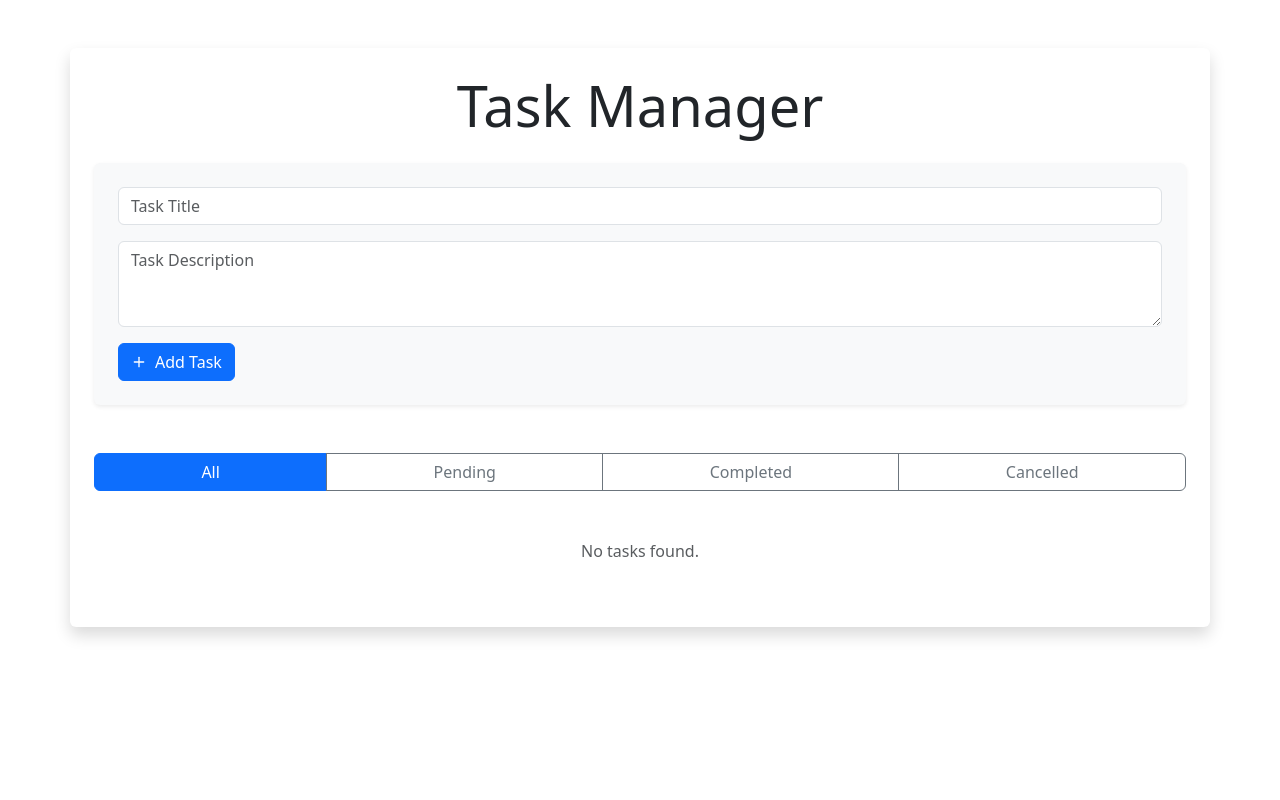
Test: TaskManager Component › renders TaskManager and adds a task
Type "New Task" into the field with test id "task-title-input" at (640, 206), box [118, 187, 1162, 225]
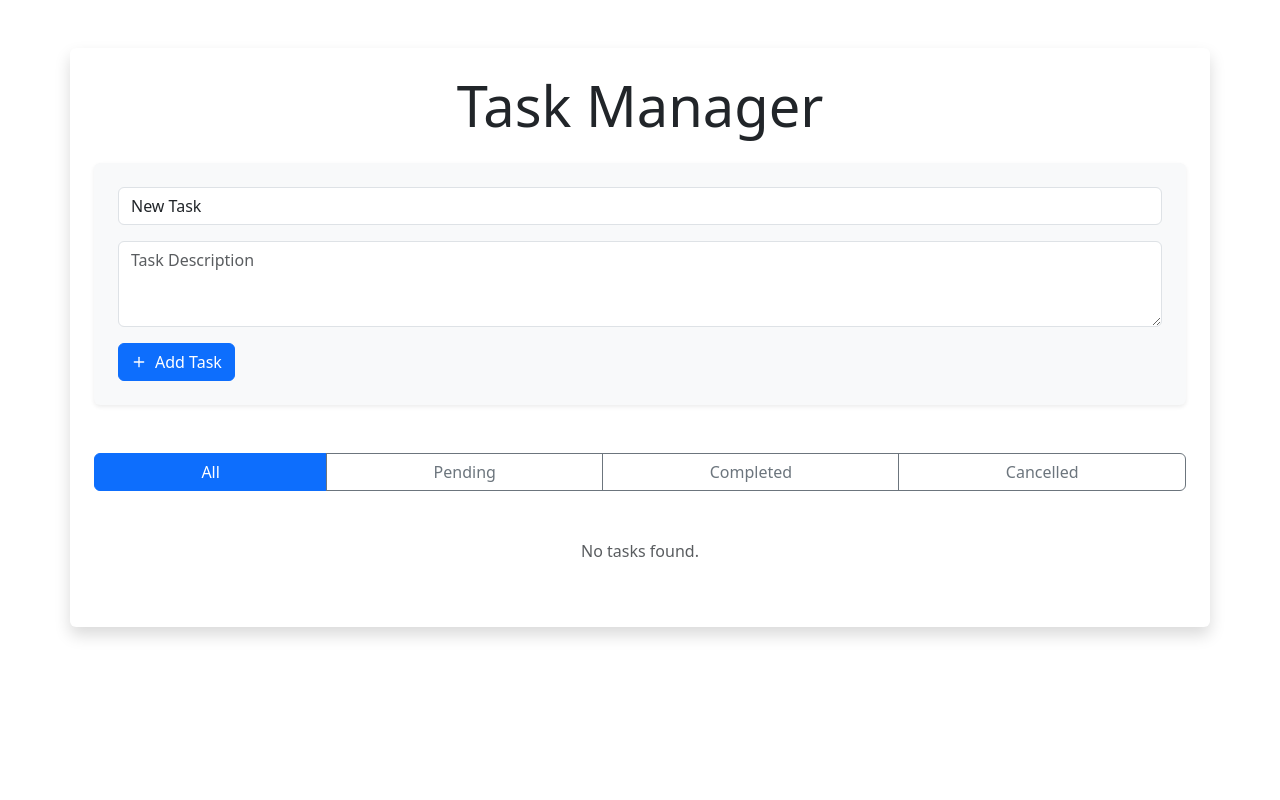
Type "Task description" into the text box with test id "task-description-input" at (640, 284), box [118, 241, 1162, 327]
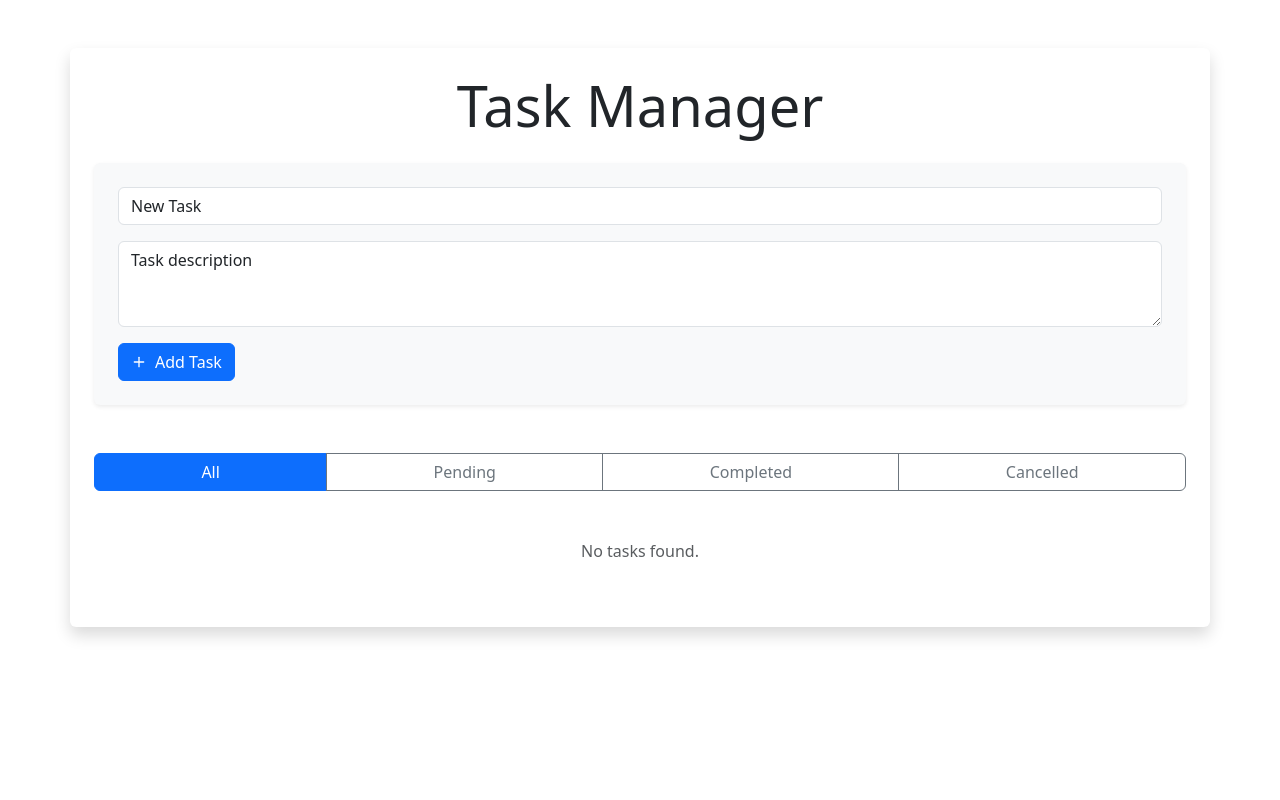
Click the button with test id "task-submit-button" at (176, 362), box [118, 343, 235, 381]
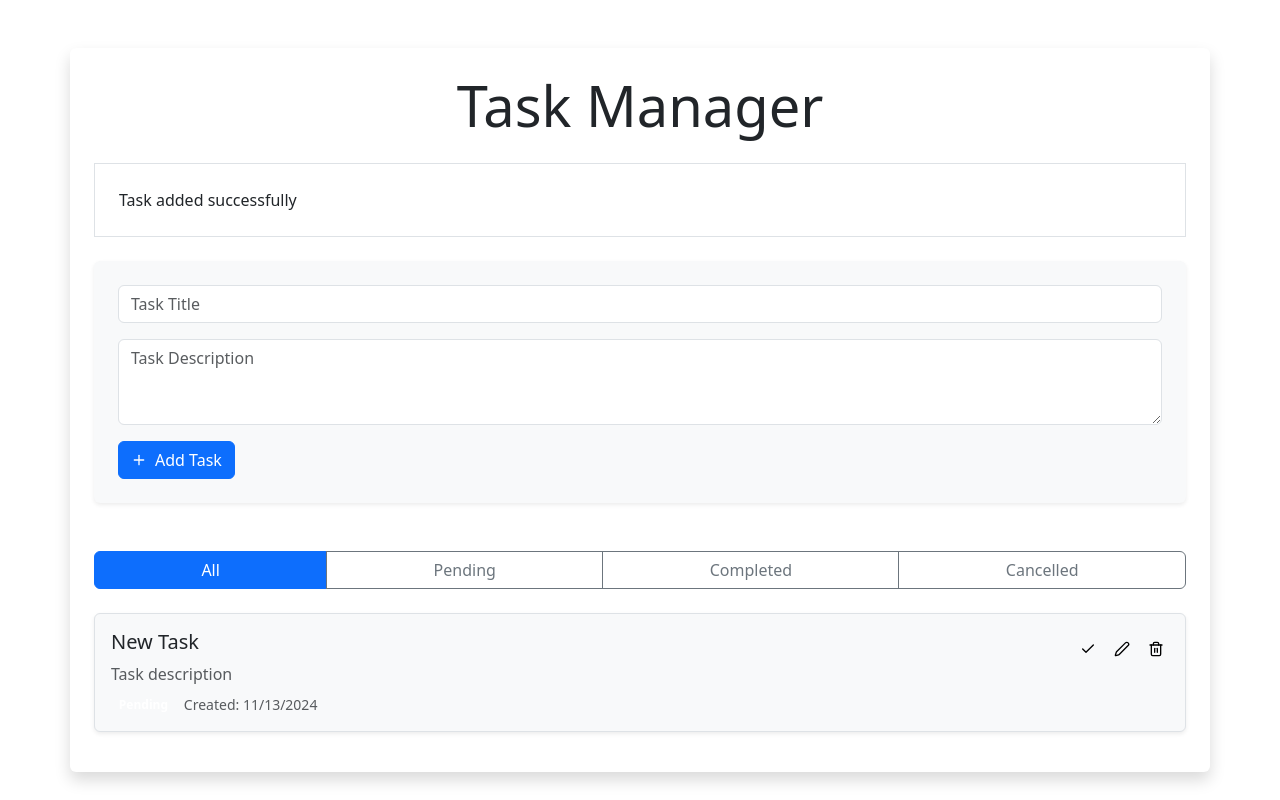
Result: the text "Task added successfully" is shown at [94, 163, 1186, 237]
Result: the heading "New Task" is shown at [111, 628, 199, 655]
